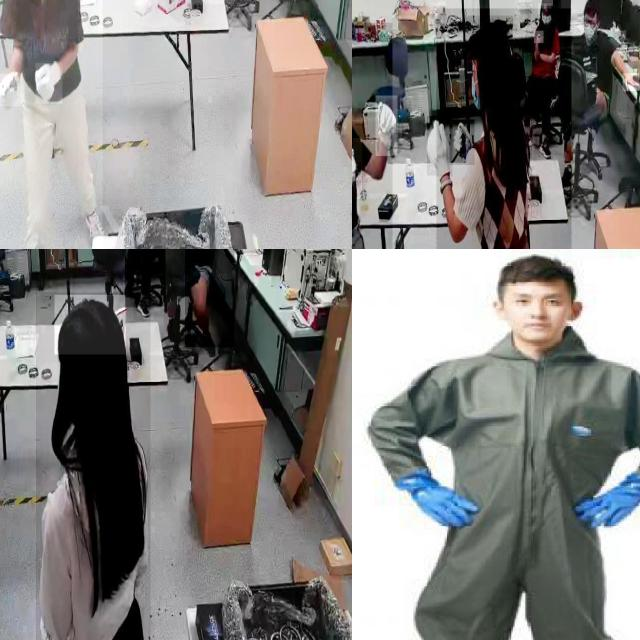face_mask: (467, 70, 488, 111), (538, 3, 552, 23), (584, 20, 596, 40)
face_nomask: (507, 284, 565, 338)
hand_glove: (575, 482, 639, 530), (414, 482, 474, 528), (427, 116, 453, 176), (376, 96, 398, 156), (450, 119, 474, 165), (36, 63, 62, 104), (0, 73, 24, 106), (352, 138, 362, 198)
hand_noglove: (622, 73, 640, 92), (534, 31, 544, 44)
head_nohelmet: (54, 295, 126, 355), (496, 249, 580, 291), (466, 15, 514, 61), (582, 0, 599, 14), (540, 0, 553, 6)
person: (373, 249, 640, 640), (36, 292, 151, 640), (436, 8, 571, 249), (0, 0, 102, 249), (571, 0, 640, 145), (524, 0, 561, 155), (185, 249, 235, 348), (125, 249, 166, 307)
shoes: (80, 192, 103, 249)
